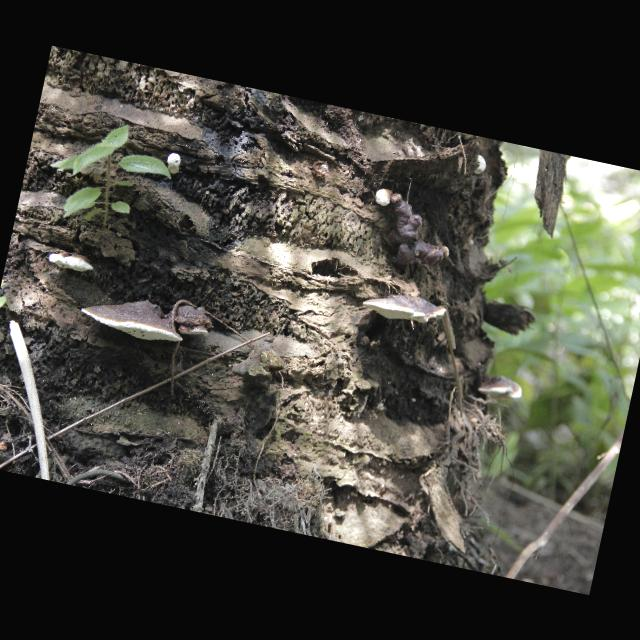ganoderma: (78, 288, 191, 348), (380, 194, 452, 277), (361, 285, 449, 332), (167, 302, 218, 341), (476, 373, 526, 406), (48, 249, 98, 276)
primordium: (165, 152, 185, 177), (374, 188, 394, 209), (474, 155, 489, 177), (441, 246, 452, 260)
